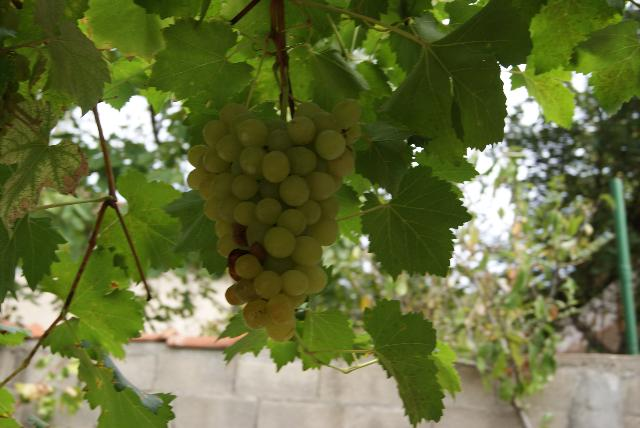grapes: (189, 99, 362, 342)
